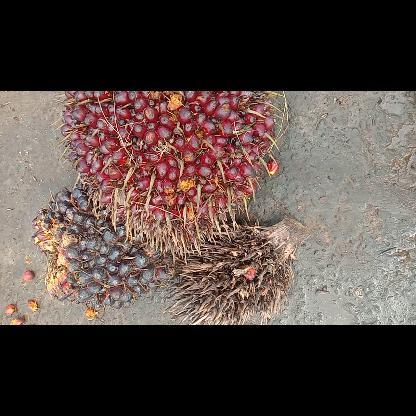Janjang kosong: (164, 214, 308, 324)
TBS masak: (52, 90, 286, 264)
TBS mentah: (32, 180, 170, 310)
